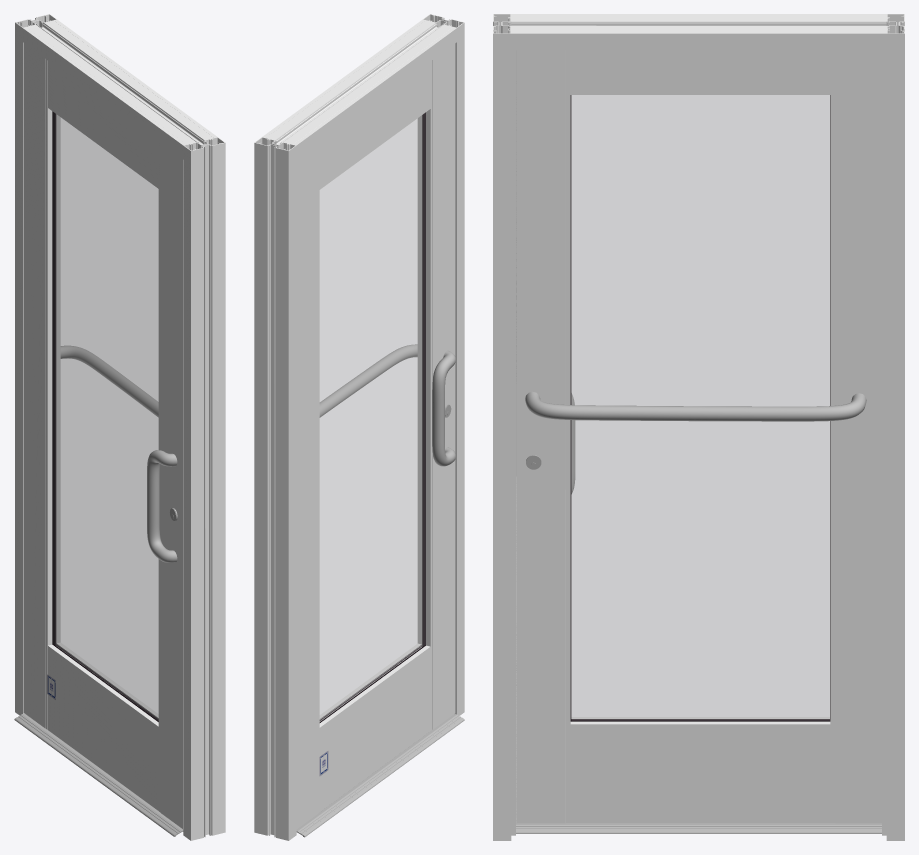
File: Framed_D500_Single_Animated_WT.glb
3 views of the same model, side by side, from view 1: azimuth 30°, elevation 25°; view 2: azimuth 150°, elevation 25°; view 3: azimuth 270°, elevation 25° (orthographic). The views are drawn at different scales.
Visible parts, largest first — view 1: D500.016, D500.001, PROFILE_curve_.018, D500.009, PROFILE_curve_.019, D500.011, PROFILE_curve_.023, D500.012, PROFILE_curve_.014, PROFILE_curve_.008, PROFILE_curve_.016, D500.003 (+3 smaller); view 2: D500.016, D500.009, PROFILE_curve_.022, D500.001, PROFILE_curve_.023, D500.011, PROFILE_curve_.019, D500.012, PROFILE_curve_.014, PROFILE_curve_.008, PROFILE_curve_.016, BézierCurve.001 (+3 smaller); view 3: D500.016, D500.009, D500.001, D500.011, PROFILE_curve_.023, PROFILE_curve_.019, D500.012, PROFILE_curve_.008, PROFILE_curve_.014, NurbsPath.001, PROFILE_curve_.016, 0_curve_.009 (+2 smaller).
Part boxes in pixels (x1,y1,x2,y2): D500.016: [52, 112, 158, 720]; D500.001: [23, 43, 60, 729]; PROFILE_curve_.018: [194, 143, 221, 839]; D500.009: [158, 142, 183, 828]; PROFILE_curve_.019: [183, 137, 225, 840]; D500.011: [48, 642, 158, 810]; PROFILE_curve_.023: [15, 14, 56, 715]; D500.012: [48, 61, 158, 188]; PROFILE_curve_.014: [26, 20, 213, 144]; PROFILE_curve_.008: [23, 19, 216, 159]; PROFILE_curve_.016: [14, 713, 183, 836]; D500.003: [53, 112, 56, 645]; D500.016: [320, 113, 425, 721]; D500.009: [417, 44, 455, 730]; PROFILE_curve_.022: [257, 143, 285, 839]; D500.001: [296, 143, 319, 828]; PROFILE_curve_.023: [254, 137, 296, 840]; D500.011: [319, 643, 430, 811]; PROFILE_curve_.019: [423, 14, 464, 715]; D500.012: [319, 61, 430, 189]; PROFILE_curve_.014: [266, 20, 452, 144]; PROFILE_curve_.008: [262, 19, 456, 158]; PROFILE_curve_.016: [296, 714, 464, 837]; BézierCurve.001: [432, 350, 455, 466]; D500.016: [571, 95, 829, 721]; D500.009: [516, 50, 570, 823]; D500.001: [830, 50, 881, 823]; D500.011: [570, 717, 830, 822]; PROFILE_curve_.023: [886, 14, 904, 840]; PROFILE_curve_.019: [493, 14, 511, 840]; D500.012: [570, 50, 830, 94]; PROFILE_curve_.008: [511, 14, 886, 50]; PROFILE_curve_.014: [511, 16, 886, 31]; NurbsPath.001: [525, 391, 866, 421]; PROFILE_curve_.016: [516, 823, 881, 833]; 0_curve_.009: [882, 50, 886, 835].
Size of the model in its own units: 0.1922 by 2.18 by 1.01.
7 materials, 1 textured.
